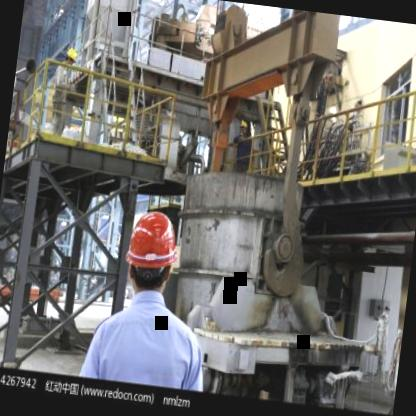helmet: (114, 204, 188, 294), (58, 46, 78, 70)
